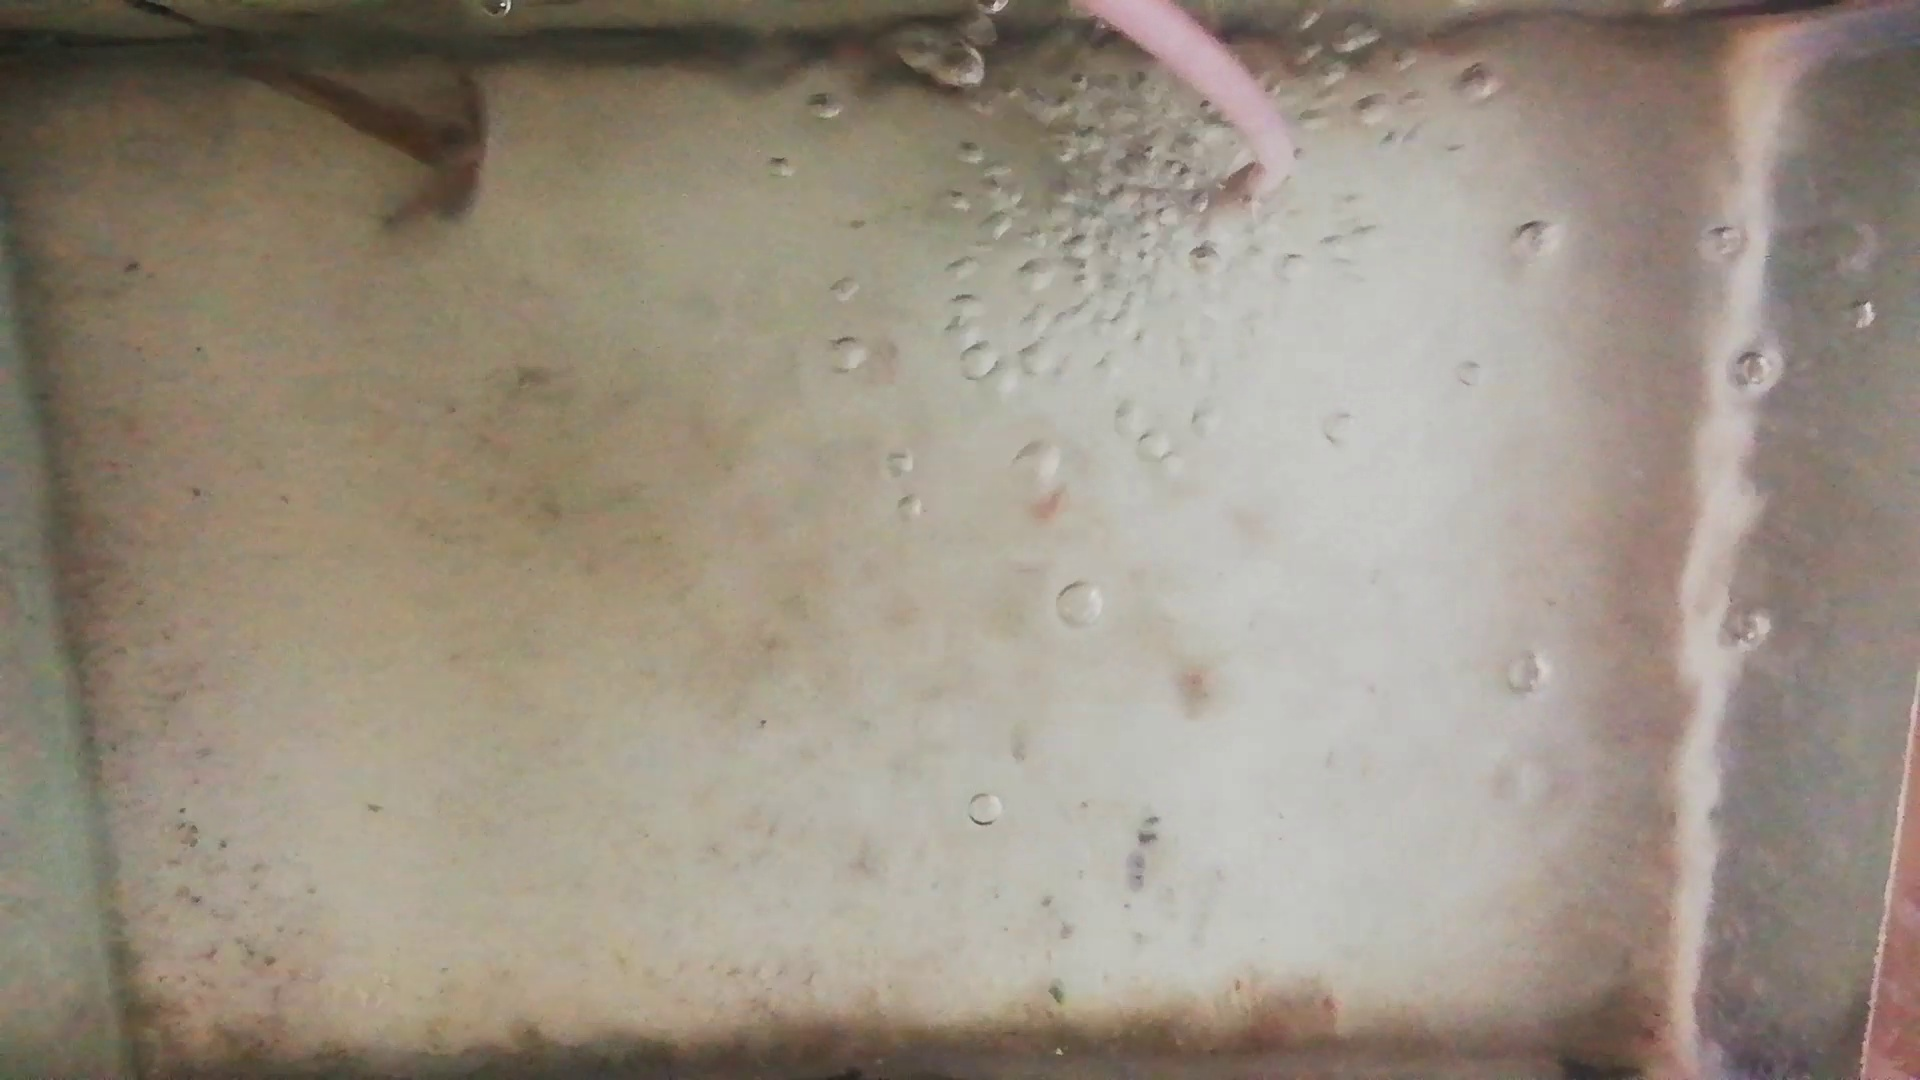fish: (211, 53, 446, 166), (404, 87, 491, 229)
